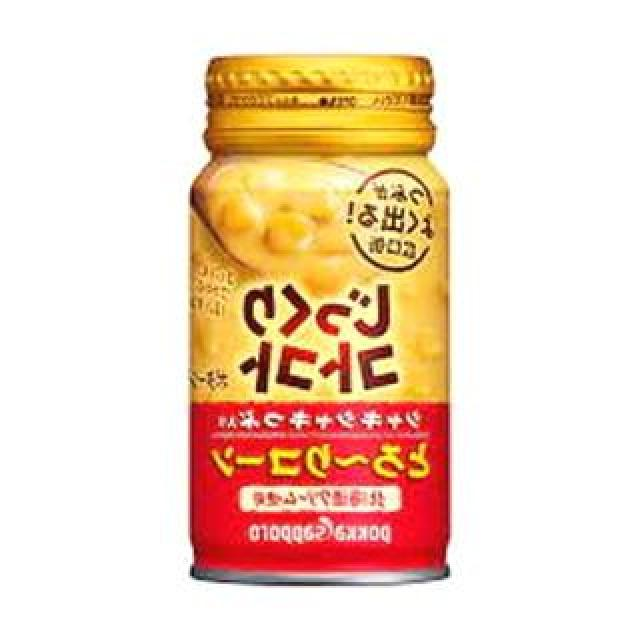Can: (185, 39, 463, 587)
